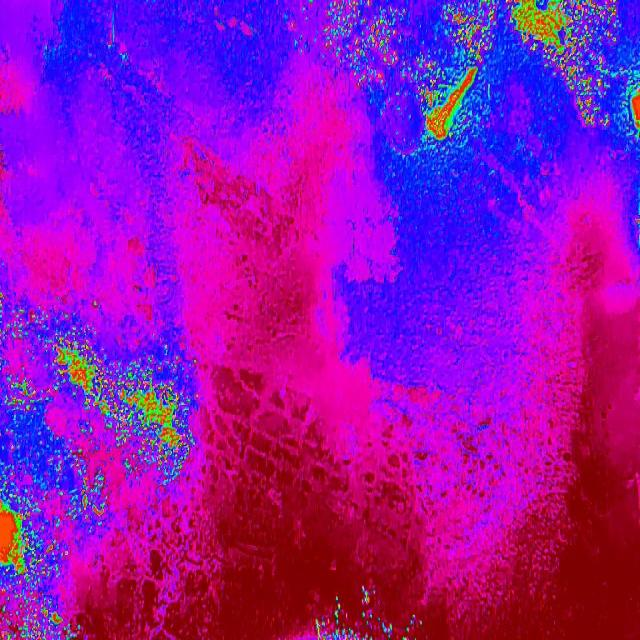fire: (0, 290, 97, 640), (395, 0, 502, 172), (98, 336, 198, 490), (293, 0, 395, 92), (571, 0, 618, 130), (314, 596, 419, 640), (542, 0, 570, 95), (503, 0, 543, 61), (617, 58, 640, 154)
